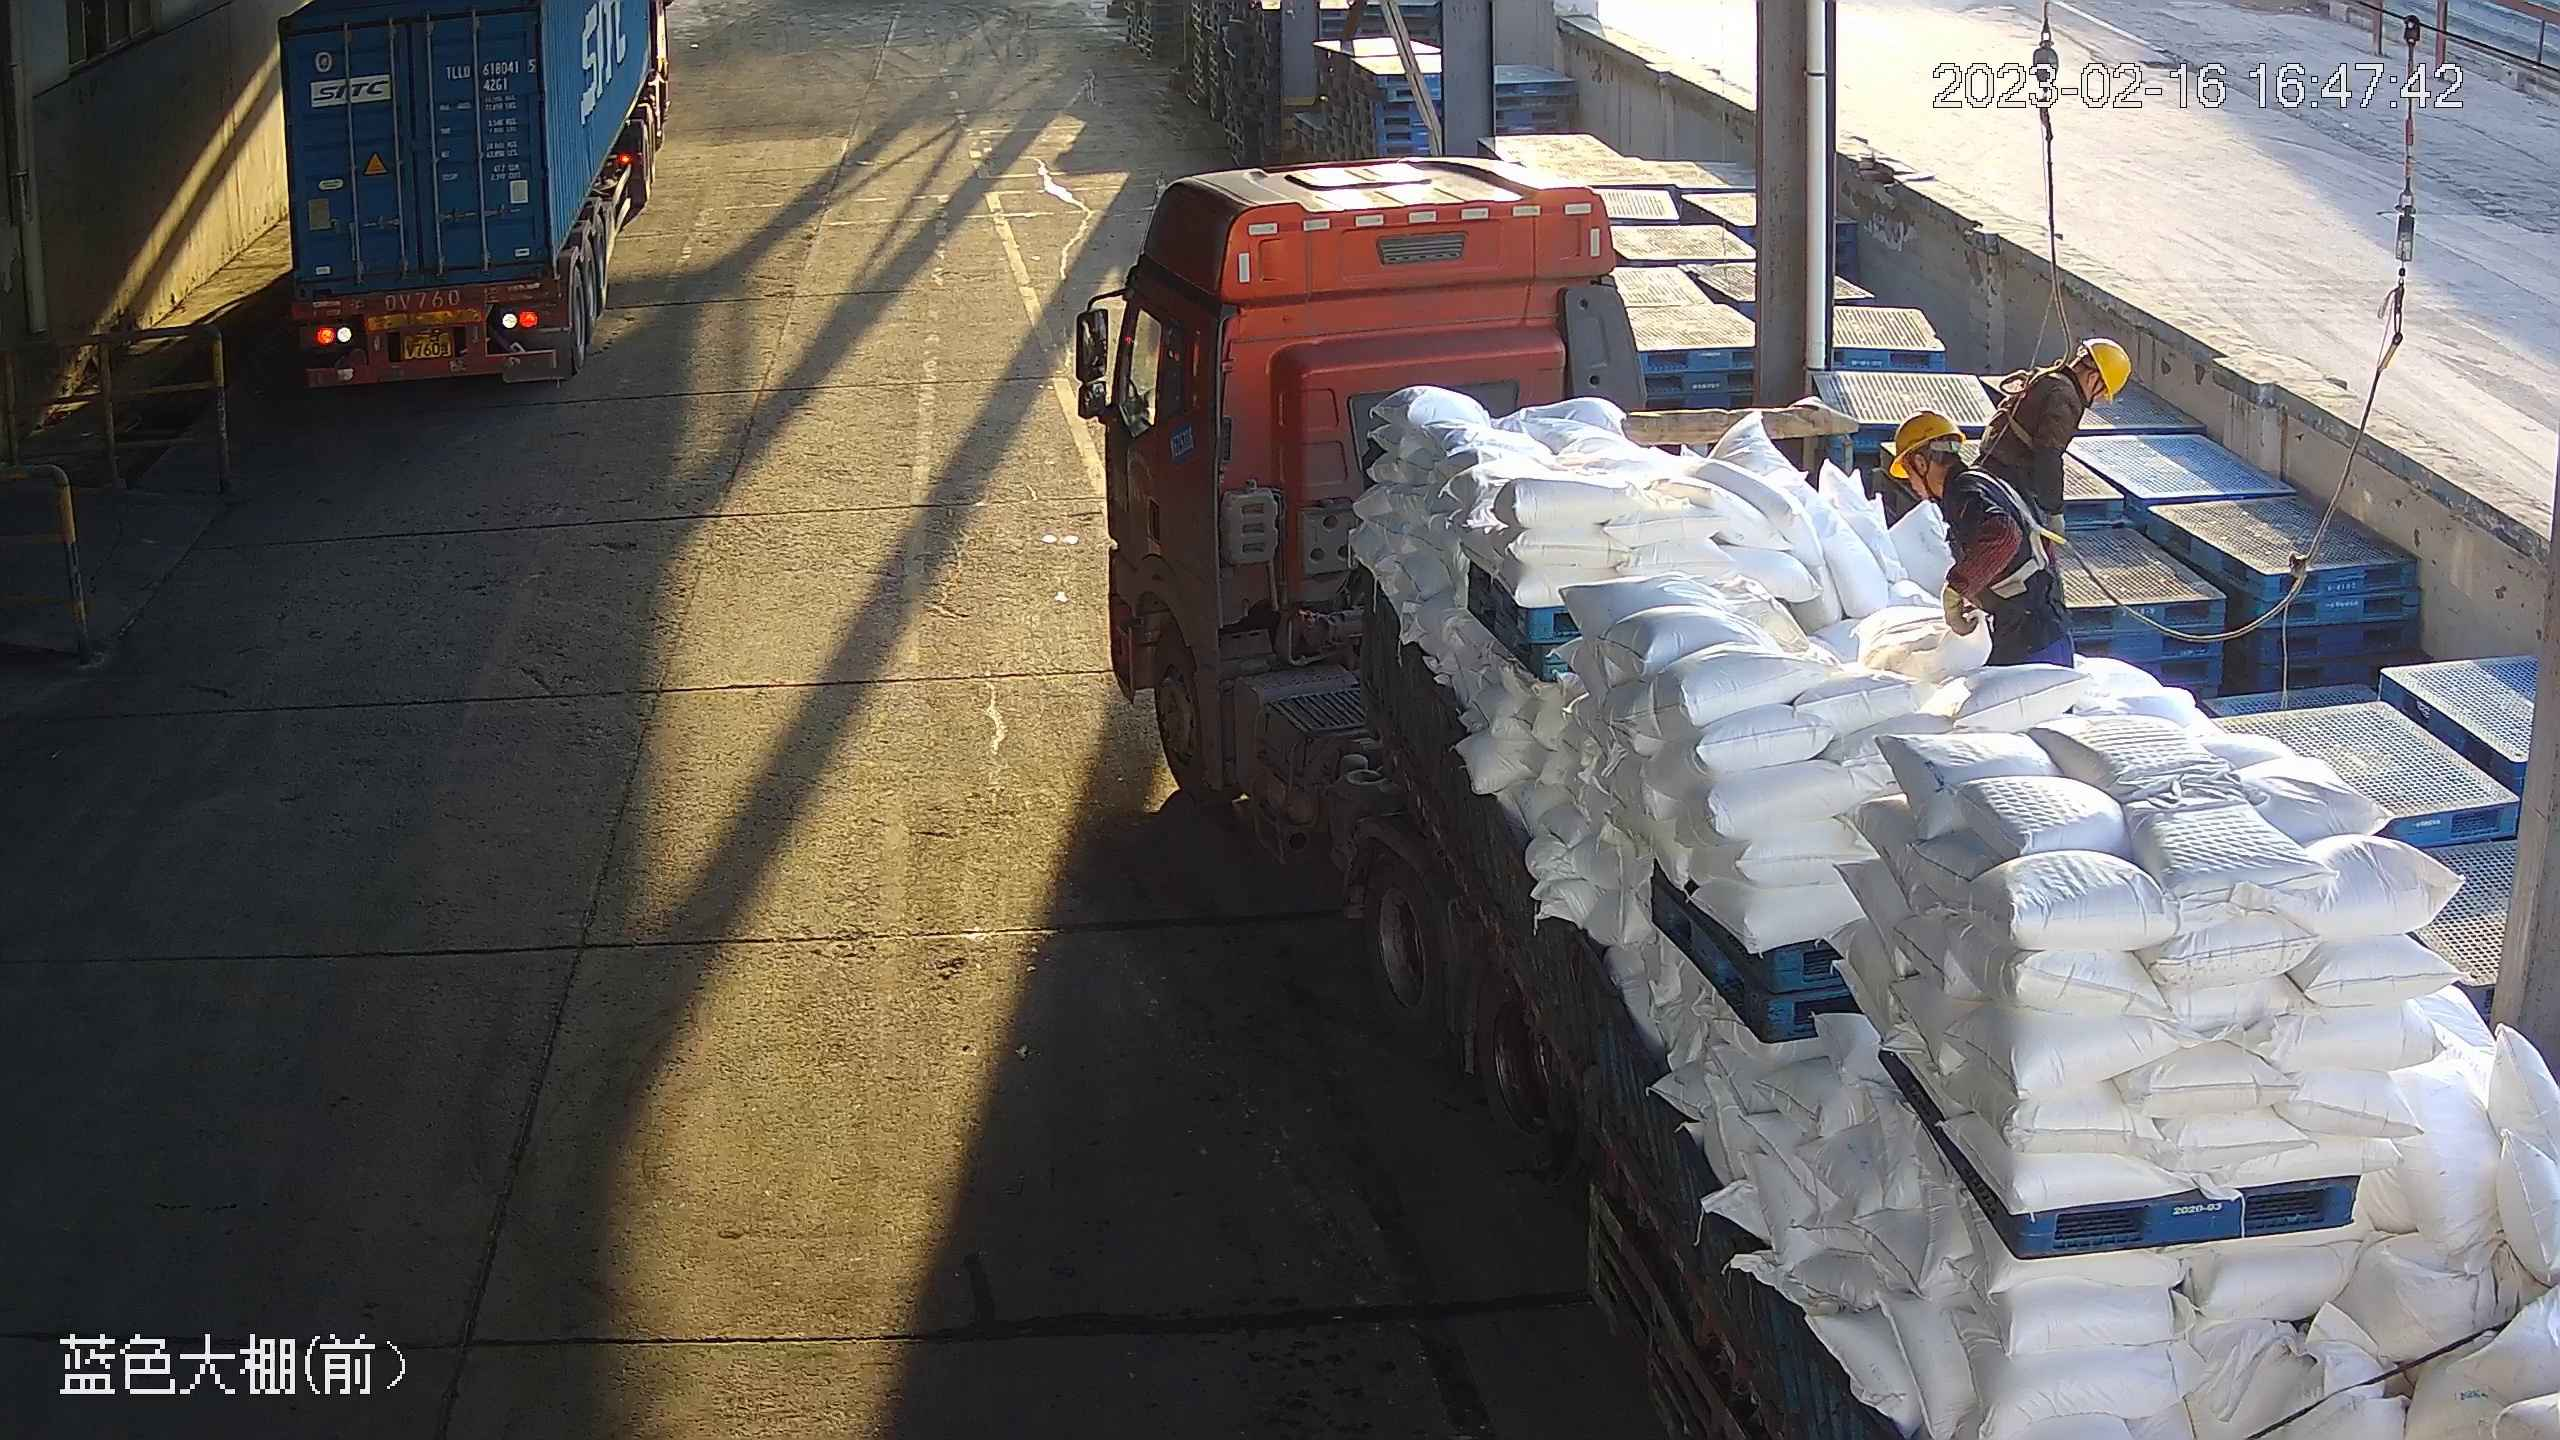belt: (1955, 465, 2066, 599), (1980, 356, 2081, 466)
head: (1887, 407, 2018, 530), (2025, 338, 2131, 431)
helmet: (1887, 407, 1967, 479), (2081, 337, 2131, 403)
people: (1888, 407, 2076, 670), (1971, 337, 2131, 535)
truck: (1070, 154, 2560, 1440), (276, 1, 678, 391)
